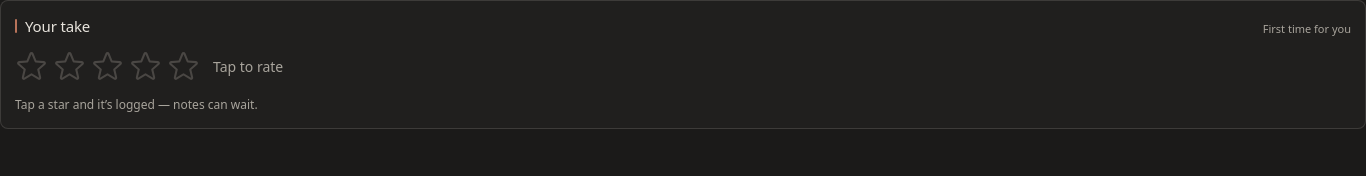
Test case: §5 log panel › puts the stars back and says so when the save fails
Click the button with test id "star-rating-4" at (154, 67), box [146, 50, 163, 84]
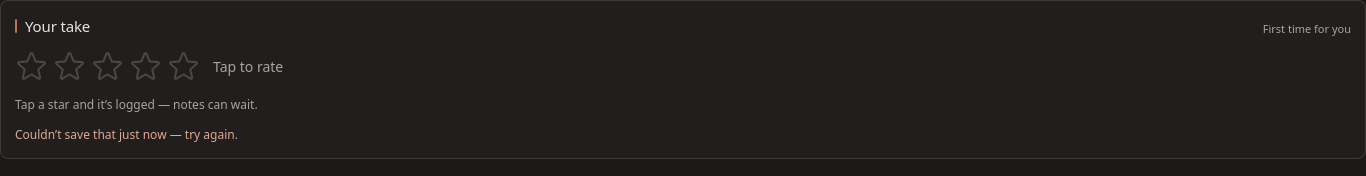
Expected: the text with test id "tasting-log-rating" reads "Tap to rate", [213, 57, 283, 76]
Expected: the message "Couldn’t save that just now — try again." is shown, [15, 126, 238, 143]
